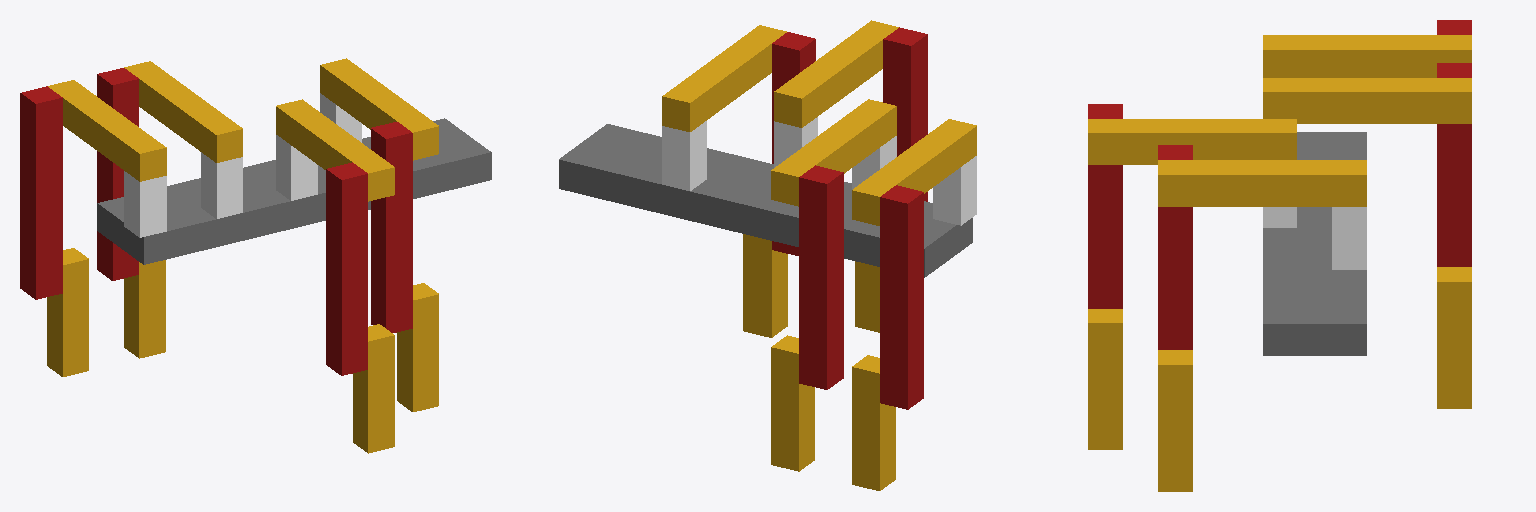
The robot description file, URDF, robot "v0":
<?xml version="1.0" encoding="utf-8"?>
<!-- =================================================================================== -->
<!-- |    This document was autogenerated by xacro from ../robots/v0variants/xacros/v0_4l_24.xacro | -->
<!-- |    EDITING THIS FILE BY HAND IS NOT RECOMMENDED                                 | -->
<!-- =================================================================================== -->
<robot name="v0">
  <material name="grey">
    <color rgba="0.5 0.5 0.5 1"/>
  </material>
  <material name="white">
    <color rgba="1 1 1 1"/>
  </material>
  <material name="yellow">
    <color rgba="0.91 0.7 0.14 1"/>
  </material>
  <material name="red">
    <color rgba="0.71 0.14 0.14 1"/>
  </material>
  <link name="body">
    <visual>
      <geometry>
        <box size="1.3 0.3 0.1"/>
      </geometry>
      <material name="grey"/>
      <origin rpy="0 0 0" xyz="0 0 0.7"/>
    </visual>
    <collision>
      <geometry>
        <box size="1.3 0.3 0.1"/>
      </geometry>
      <origin rpy="0 0 0" xyz="0 0 0.7"/>
    </collision>
    <inertial>
      <mass value="99.84"/>
      <inertia ixx="0.832" ixy="0.0" ixz="0.0" iyy="14.144" iyz="0.0" izz="14.8096"/>
    </inertial>
  </link>
  <link name="l1_segment_1">
    <visual>
      <geometry>
        <box size="0.1 0.1 0.2"/>
      </geometry>
      <material name="white"/>
      <origin rpy="0 0 0" xyz="0 0 0.1"/>
    </visual>
    <collision>
      <geometry>
        <box size="0.1 0.1 0.2"/>
      </geometry>
      <origin rpy="0 0 0" xyz="0 0 0.1"/>
    </collision>
    <inertial>
      <mass value="5.12"/>
      <inertia ixx="0.0213333333333" ixy="0.0" ixz="0.0" iyy="0.0213333333333" iyz="0.0" izz="0.00853333333333"/>
    </inertial>
  </link>
  <joint name="l1_base_to_joint_1" type="fixed">
    <parent link="body"/>
    <child link="l1_segment_1"/>
    <origin rpy="0 0 0" xyz="-0.6144523218845308 -0.1 0.75"/>
  </joint>
  <link name="l1_segment_2_HIP">
    <visual>
      <geometry>
        <box size="0.1 0.6 0.1"/>
      </geometry>
      <material name="yellow"/>
      <origin rpy="0 0 0" xyz="0 0.25 0"/>
    </visual>
    <collision>
      <geometry>
        <box size="0.1 0.6 0.1"/>
      </geometry>
      <origin rpy="0 0 0" xyz="0 0.25 0"/>
    </collision>
    <inertial>
      <mass value="15.36"/>
      <inertia ixx="0.4736" ixy="0.0" ixz="0.0" iyy="0.0256" iyz="0.0" izz="0.4736"/>
    </inertial>
  </link>
  <joint name="l1_joint_1_to_2" type="revolute">
    <parent link="l1_segment_1"/>
    <child link="l1_segment_2_HIP"/>
    <origin rpy="0 0 0" xyz="0 0 0.25"/>
    <axis xyz="0.0 0.0 1.0"/>
    <limit effort="2048" lower="-1.2" upper="1.2" velocity="20"/>
  </joint>
  <link name="l1_segment_3_THIGH">
    <visual>
      <geometry>
        <box size="0.1 0.1 0.7"/>
      </geometry>
      <material name="red"/>
      <origin rpy="0 0 0" xyz="0 0 -0.3"/>
    </visual>
    <collision>
      <geometry>
        <box size="0.1 0.1 0.7"/>
      </geometry>
      <origin rpy="0 0 0" xyz="0 0 -0.3"/>
    </collision>
    <inertial>
      <mass value="17.92"/>
      <inertia ixx="0.746666666667" ixy="0.0" ixz="0.0" iyy="0.746666666667" iyz="0.0" izz="0.0298666666667"/>
    </inertial>
  </link>
  <joint name="l1_joint_2_to_3" type="revolute">
    <parent link="l1_segment_2_HIP"/>
    <child link="l1_segment_3_THIGH"/>
    <origin rpy="0 0 0" xyz="-0.1 0.5 0"/>
    <axis xyz="1.0 0.0 0.0"/>
    <limit effort="2048" lower="-0.2" upper="0.75" velocity="20"/>
  </joint>
  <link name="l1_segment_4_FOOT">
    <visual>
      <geometry>
        <box size="0.1 0.1 0.4"/>
      </geometry>
      <material name="yellow"/>
      <origin rpy="0 0 0" xyz="0 0 -0.2"/>
    </visual>
    <collision>
      <geometry>
        <box size="0.1 0.1 0.4"/>
      </geometry>
      <origin rpy="0 0 0" xyz="0 0 -0.2"/>
    </collision>
    <inertial>
      <mass value="10.24"/>
      <inertia ixx="0.145066666667" ixy="0.0" ixz="0.0" iyy="0.145066666667" iyz="0.0" izz="0.0170666666667"/>
    </inertial>
  </link>
  <joint name="l1_joint_3_to_4_FOOT" type="revolute">
    <parent link="l1_segment_3_THIGH"/>
    <child link="l1_segment_4_FOOT"/>
    <origin rpy="0 0 0" xyz="0.1 0 -0.55"/>
    <axis xyz="1.0 0.0 0.0"/>
    <limit effort="2048" lower="-0.2" upper="0.5" velocity="20"/>
  </joint>
  <link name="r2_segment_1">
    <visual>
      <geometry>
        <box size="0.1 0.1 0.2"/>
      </geometry>
      <material name="white"/>
      <origin rpy="0 0 0" xyz="0 0 0.1"/>
    </visual>
    <collision>
      <geometry>
        <box size="0.1 0.1 0.2"/>
      </geometry>
      <origin rpy="0 0 0" xyz="0 0 0.1"/>
    </collision>
    <inertial>
      <mass value="5.12"/>
      <inertia ixx="0.0213333333333" ixy="0.0" ixz="0.0" iyy="0.0213333333333" iyz="0.0" izz="0.00853333333333"/>
    </inertial>
  </link>
  <joint name="r2_base_to_joint_1" type="fixed">
    <parent link="body"/>
    <child link="r2_segment_1"/>
    <origin rpy="0 0 0" xyz="0.23229283407124013 0.1 0.75"/>
  </joint>
  <link name="r2_segment_2_HIP">
    <visual>
      <geometry>
        <box size="0.1 0.6 0.1"/>
      </geometry>
      <material name="yellow"/>
      <origin rpy="0 0 0" xyz="0 -0.25 0"/>
    </visual>
    <collision>
      <geometry>
        <box size="0.1 0.6 0.1"/>
      </geometry>
      <origin rpy="0 0 0" xyz="0 -0.25 0"/>
    </collision>
    <inertial>
      <mass value="15.36"/>
      <inertia ixx="0.4736" ixy="0.0" ixz="0.0" iyy="0.0256" iyz="0.0" izz="0.4736"/>
    </inertial>
  </link>
  <joint name="r2_joint_1_to_2" type="revolute">
    <parent link="r2_segment_1"/>
    <child link="r2_segment_2_HIP"/>
    <origin rpy="0 0 0" xyz="0 0 0.25"/>
    <axis xyz="0.0 0.0 1.0"/>
    <limit effort="2048" lower="-1.2" upper="1.2" velocity="20"/>
  </joint>
  <link name="r2_segment_3_THIGH">
    <visual>
      <geometry>
        <box size="0.1 0.1 0.7"/>
      </geometry>
      <material name="red"/>
      <origin rpy="0 0 0" xyz="0 0 -0.3"/>
    </visual>
    <collision>
      <geometry>
        <box size="0.1 0.1 0.7"/>
      </geometry>
      <origin rpy="0 0 0" xyz="0 0 -0.3"/>
    </collision>
    <inertial>
      <mass value="17.92"/>
      <inertia ixx="0.746666666667" ixy="0.0" ixz="0.0" iyy="0.746666666667" iyz="0.0" izz="0.0298666666667"/>
    </inertial>
  </link>
  <joint name="r2_joint_2_to_3" type="revolute">
    <parent link="r2_segment_2_HIP"/>
    <child link="r2_segment_3_THIGH"/>
    <origin rpy="0 0 0" xyz="-0.1 -0.5 0"/>
    <axis xyz="1.0 0.0 0.0"/>
    <limit effort="2048" lower="-0.75" upper="0.2" velocity="20"/>
  </joint>
  <link name="r2_segment_4_FOOT">
    <visual>
      <geometry>
        <box size="0.1 0.1 0.4"/>
      </geometry>
      <material name="yellow"/>
      <origin rpy="0 0 0" xyz="0 0 -0.2"/>
    </visual>
    <collision>
      <geometry>
        <box size="0.1 0.1 0.4"/>
      </geometry>
      <origin rpy="0 0 0" xyz="0 0 -0.2"/>
    </collision>
    <inertial>
      <mass value="10.24"/>
      <inertia ixx="0.145066666667" ixy="0.0" ixz="0.0" iyy="0.145066666667" iyz="0.0" izz="0.0170666666667"/>
    </inertial>
  </link>
  <joint name="r2_joint_3_to_4_FOOT" type="revolute">
    <parent link="r2_segment_3_THIGH"/>
    <child link="r2_segment_4_FOOT"/>
    <origin rpy="0 0 0" xyz="0.1 0 -0.55"/>
    <axis xyz="1.0 0.0 0.0"/>
    <limit effort="2048" lower="-0.5" upper="0.2" velocity="20"/>
  </joint>
  <link name="l3_segment_1">
    <visual>
      <geometry>
        <box size="0.1 0.1 0.2"/>
      </geometry>
      <material name="white"/>
      <origin rpy="0 0 0" xyz="0 0 0.1"/>
    </visual>
    <collision>
      <geometry>
        <box size="0.1 0.1 0.2"/>
      </geometry>
      <origin rpy="0 0 0" xyz="0 0 0.1"/>
    </collision>
    <inertial>
      <mass value="5.12"/>
      <inertia ixx="0.0213333333333" ixy="0.0" ixz="0.0" iyy="0.0213333333333" iyz="0.0" izz="0.00853333333333"/>
    </inertial>
  </link>
  <joint name="l3_base_to_joint_1" type="fixed">
    <parent link="body"/>
    <child link="l3_segment_1"/>
    <origin rpy="0 0 0" xyz="-0.32782289612566795 -0.1 0.75"/>
  </joint>
  <link name="l3_segment_2_HIP">
    <visual>
      <geometry>
        <box size="0.1 0.6 0.1"/>
      </geometry>
      <material name="yellow"/>
      <origin rpy="0 0 0" xyz="0 0.25 0"/>
    </visual>
    <collision>
      <geometry>
        <box size="0.1 0.6 0.1"/>
      </geometry>
      <origin rpy="0 0 0" xyz="0 0.25 0"/>
    </collision>
    <inertial>
      <mass value="15.36"/>
      <inertia ixx="0.4736" ixy="0.0" ixz="0.0" iyy="0.0256" iyz="0.0" izz="0.4736"/>
    </inertial>
  </link>
  <joint name="l3_joint_1_to_2" type="revolute">
    <parent link="l3_segment_1"/>
    <child link="l3_segment_2_HIP"/>
    <origin rpy="0 0 0" xyz="0 0 0.25"/>
    <axis xyz="0.0 0.0 1.0"/>
    <limit effort="2048" lower="-1.2" upper="1.2" velocity="20"/>
  </joint>
  <link name="l3_segment_3_THIGH">
    <visual>
      <geometry>
        <box size="0.1 0.1 0.7"/>
      </geometry>
      <material name="red"/>
      <origin rpy="0 0 0" xyz="0 0 -0.3"/>
    </visual>
    <collision>
      <geometry>
        <box size="0.1 0.1 0.7"/>
      </geometry>
      <origin rpy="0 0 0" xyz="0 0 -0.3"/>
    </collision>
    <inertial>
      <mass value="17.92"/>
      <inertia ixx="0.746666666667" ixy="0.0" ixz="0.0" iyy="0.746666666667" iyz="0.0" izz="0.0298666666667"/>
    </inertial>
  </link>
  <joint name="l3_joint_2_to_3" type="revolute">
    <parent link="l3_segment_2_HIP"/>
    <child link="l3_segment_3_THIGH"/>
    <origin rpy="0 0 0" xyz="-0.1 0.5 0"/>
    <axis xyz="1.0 0.0 0.0"/>
    <limit effort="2048" lower="-0.2" upper="0.75" velocity="20"/>
  </joint>
  <link name="l3_segment_4_FOOT">
    <visual>
      <geometry>
        <box size="0.1 0.1 0.4"/>
      </geometry>
      <material name="yellow"/>
      <origin rpy="0 0 0" xyz="0 0 -0.2"/>
    </visual>
    <collision>
      <geometry>
        <box size="0.1 0.1 0.4"/>
      </geometry>
      <origin rpy="0 0 0" xyz="0 0 -0.2"/>
    </collision>
    <inertial>
      <mass value="10.24"/>
      <inertia ixx="0.145066666667" ixy="0.0" ixz="0.0" iyy="0.145066666667" iyz="0.0" izz="0.0170666666667"/>
    </inertial>
  </link>
  <joint name="l3_joint_3_to_4_FOOT" type="revolute">
    <parent link="l3_segment_3_THIGH"/>
    <child link="l3_segment_4_FOOT"/>
    <origin rpy="0 0 0" xyz="0.1 0 -0.55"/>
    <axis xyz="1.0 0.0 0.0"/>
    <limit effort="2048" lower="-0.2" upper="0.5" velocity="20"/>
  </joint>
  <link name="r4_segment_1">
    <visual>
      <geometry>
        <box size="0.1 0.1 0.2"/>
      </geometry>
      <material name="white"/>
      <origin rpy="0 0 0" xyz="0 0 0.1"/>
    </visual>
    <collision>
      <geometry>
        <box size="0.1 0.1 0.2"/>
      </geometry>
      <origin rpy="0 0 0" xyz="0 0 0.1"/>
    </collision>
    <inertial>
      <mass value="5.12"/>
      <inertia ixx="0.0213333333333" ixy="0.0" ixz="0.0" iyy="0.0213333333333" iyz="0.0" izz="0.00853333333333"/>
    </inertial>
  </link>
  <joint name="r4_base_to_joint_1" type="fixed">
    <parent link="body"/>
    <child link="r4_segment_1"/>
    <origin rpy="0 0 0" xyz="-0.04946584737131987 -0.1 0.75"/>
  </joint>
  <link name="r4_segment_2_HIP">
    <visual>
      <geometry>
        <box size="0.1 0.6 0.1"/>
      </geometry>
      <material name="yellow"/>
      <origin rpy="0 0 0" xyz="0 -0.25 0"/>
    </visual>
    <collision>
      <geometry>
        <box size="0.1 0.6 0.1"/>
      </geometry>
      <origin rpy="0 0 0" xyz="0 -0.25 0"/>
    </collision>
    <inertial>
      <mass value="15.36"/>
      <inertia ixx="0.4736" ixy="0.0" ixz="0.0" iyy="0.0256" iyz="0.0" izz="0.4736"/>
    </inertial>
  </link>
  <joint name="r4_joint_1_to_2" type="revolute">
    <parent link="r4_segment_1"/>
    <child link="r4_segment_2_HIP"/>
    <origin rpy="0 0 0" xyz="0 0 0.25"/>
    <axis xyz="0.0 0.0 1.0"/>
    <limit effort="2048" lower="-1.2" upper="1.2" velocity="20"/>
  </joint>
  <link name="r4_segment_3_THIGH">
    <visual>
      <geometry>
        <box size="0.1 0.1 0.7"/>
      </geometry>
      <material name="red"/>
      <origin rpy="0 0 0" xyz="0 0 -0.3"/>
    </visual>
    <collision>
      <geometry>
        <box size="0.1 0.1 0.7"/>
      </geometry>
      <origin rpy="0 0 0" xyz="0 0 -0.3"/>
    </collision>
    <inertial>
      <mass value="17.92"/>
      <inertia ixx="0.746666666667" ixy="0.0" ixz="0.0" iyy="0.746666666667" iyz="0.0" izz="0.0298666666667"/>
    </inertial>
  </link>
  <joint name="r4_joint_2_to_3" type="revolute">
    <parent link="r4_segment_2_HIP"/>
    <child link="r4_segment_3_THIGH"/>
    <origin rpy="0 0 0" xyz="-0.1 -0.5 0"/>
    <axis xyz="1.0 0.0 0.0"/>
    <limit effort="2048" lower="-0.75" upper="0.2" velocity="20"/>
  </joint>
  <link name="r4_segment_4_FOOT">
    <visual>
      <geometry>
        <box size="0.1 0.1 0.4"/>
      </geometry>
      <material name="yellow"/>
      <origin rpy="0 0 0" xyz="0 0 -0.2"/>
    </visual>
    <collision>
      <geometry>
        <box size="0.1 0.1 0.4"/>
      </geometry>
      <origin rpy="0 0 0" xyz="0 0 -0.2"/>
    </collision>
    <inertial>
      <mass value="10.24"/>
      <inertia ixx="0.145066666667" ixy="0.0" ixz="0.0" iyy="0.145066666667" iyz="0.0" izz="0.0170666666667"/>
    </inertial>
  </link>
  <joint name="r4_joint_3_to_4_FOOT" type="revolute">
    <parent link="r4_segment_3_THIGH"/>
    <child link="r4_segment_4_FOOT"/>
    <origin rpy="0 0 0" xyz="0.1 0 -0.55"/>
    <axis xyz="1.0 0.0 0.0"/>
    <limit effort="2048" lower="-0.5" upper="0.2" velocity="20"/>
  </joint>
</robot>

--- What the picture shows (computed from the rendered views, not written in the file) ---
Views: 3 orthographic renders of the robot side by side, from view 1: azimuth 30°, elevation 25°; view 2: azimuth 150°, elevation 25°; view 3: azimuth 270°, elevation 25°.
Model v0 with 17 links and 16 joints (12 revolute, 4 fixed), rooted at body, posed every joint at zero.
Links seen in each view (by area): view 1: body, l1_segment_3_THIGH, r4_segment_3_THIGH, r2_segment_3_THIGH, l1_segment_2_HIP, l3_segment_2_HIP, r4_segment_2_HIP, r2_segment_2_HIP, r4_segment_4_FOOT, r2_segment_4_FOOT, l1_segment_4_FOOT, l3_segment_3_THIGH (+5 smaller); view 2: body, l3_segment_3_THIGH, l1_segment_3_THIGH, r2_segment_2_HIP, r4_segment_2_HIP, l3_segment_2_HIP, l1_segment_2_HIP, l1_segment_4_FOOT, l3_segment_4_FOOT, r4_segment_3_THIGH, r2_segment_4_FOOT, r2_segment_1 (+5 smaller); view 3: body, r2_segment_2_HIP, l3_segment_2_HIP, l1_segment_2_HIP, r4_segment_2_HIP, r4_segment_3_THIGH, r2_segment_3_THIGH, l3_segment_3_THIGH, r2_segment_4_FOOT, l3_segment_4_FOOT, r4_segment_4_FOOT, r2_segment_1 (+2 smaller).
Boxes of the visible links, bbox=[...] form: body: bbox=[97, 118, 491, 264]; l1_segment_3_THIGH: bbox=[20, 86, 62, 299]; r4_segment_3_THIGH: bbox=[326, 162, 367, 375]; r2_segment_3_THIGH: bbox=[371, 122, 412, 332]; l1_segment_2_HIP: bbox=[48, 80, 166, 181]; l3_segment_2_HIP: bbox=[124, 61, 242, 162]; r4_segment_2_HIP: bbox=[276, 99, 394, 201]; r2_segment_2_HIP: bbox=[320, 58, 438, 160]; r4_segment_4_FOOT: bbox=[353, 324, 394, 453]; r2_segment_4_FOOT: bbox=[397, 283, 438, 411]; l1_segment_4_FOOT: bbox=[47, 248, 88, 376]; l3_segment_3_THIGH: bbox=[97, 68, 138, 280]; body: bbox=[559, 124, 972, 277]; l3_segment_3_THIGH: bbox=[799, 165, 843, 389]; l1_segment_3_THIGH: bbox=[880, 185, 923, 409]; r2_segment_2_HIP: bbox=[662, 25, 786, 131]; r4_segment_2_HIP: bbox=[774, 20, 898, 127]; l3_segment_2_HIP: bbox=[771, 99, 896, 206]; l1_segment_2_HIP: bbox=[852, 119, 976, 225]; l1_segment_4_FOOT: bbox=[852, 355, 895, 490]; l3_segment_4_FOOT: bbox=[771, 335, 814, 471]; r4_segment_3_THIGH: bbox=[883, 27, 927, 201]; r2_segment_4_FOOT: bbox=[743, 234, 787, 337]; r2_segment_1: bbox=[662, 121, 706, 190]; body: bbox=[1263, 132, 1366, 355]; r2_segment_2_HIP: bbox=[1158, 160, 1366, 206]; l3_segment_2_HIP: bbox=[1263, 78, 1471, 123]; l1_segment_2_HIP: bbox=[1263, 35, 1471, 77]; r4_segment_2_HIP: bbox=[1088, 119, 1296, 164]; r4_segment_3_THIGH: bbox=[1088, 104, 1122, 308]; r2_segment_3_THIGH: bbox=[1158, 145, 1192, 349]; l3_segment_3_THIGH: bbox=[1437, 63, 1471, 266]; r2_segment_4_FOOT: bbox=[1158, 350, 1192, 491]; l3_segment_4_FOOT: bbox=[1437, 267, 1471, 408]; r4_segment_4_FOOT: bbox=[1088, 309, 1122, 449]; r2_segment_1: bbox=[1332, 207, 1366, 269].
Bounding box of the posed robot: 1.41 × 1.1 × 1 m (x, y, z).
Geometry: primitives only (box / cylinder / sphere), no mesh files.